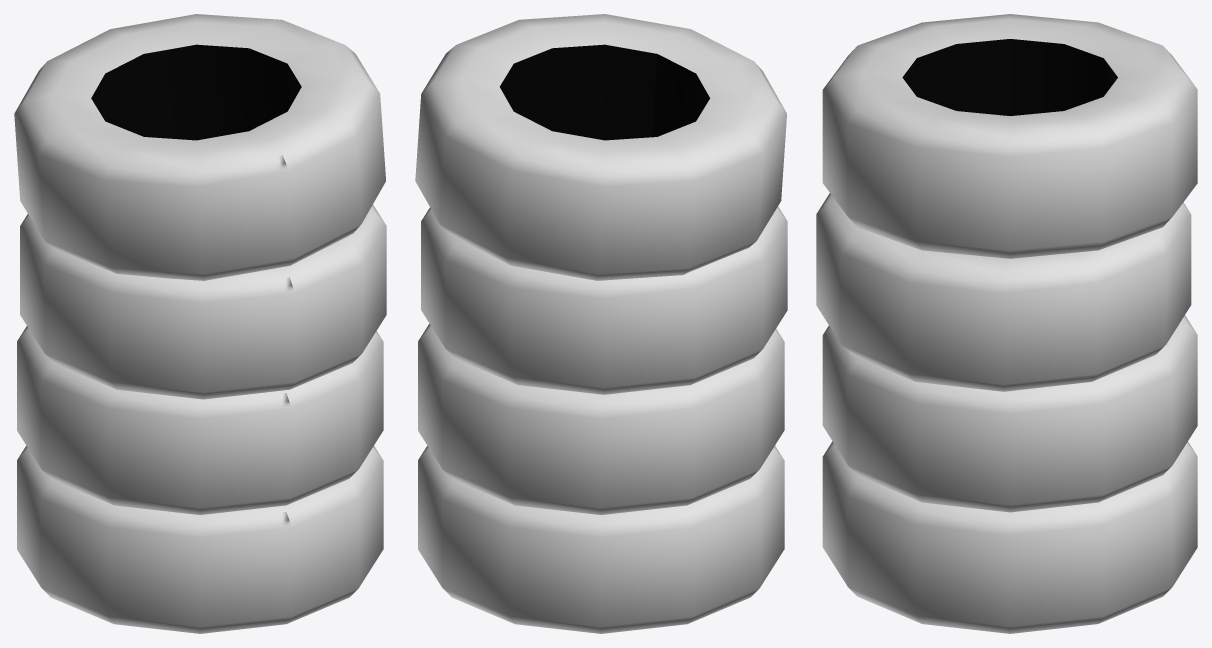
Rendered from prop_tyre_4x1_A.FBX.
3 renders of one model, left to right at view 1: azimuth 30°, elevation 25°; view 2: azimuth 150°, elevation 25°; view 3: azimuth 270°, elevation 25°, orthographic. The views are drawn at different scales.
Parts seen in each view (by area): view 1: prop_tyre_stack_A; view 2: prop_tyre_stack_A; view 3: prop_tyre_stack_A.
Part boxes in pixels (bbox=[...]): prop_tyre_stack_A: bbox=[14, 14, 386, 633]; prop_tyre_stack_A: bbox=[415, 14, 787, 633]; prop_tyre_stack_A: bbox=[816, 14, 1197, 633].
Size of the model in its own units: 33.69 by 48.69 by 33.74.
Materials: 1 (1 with a texture image).
